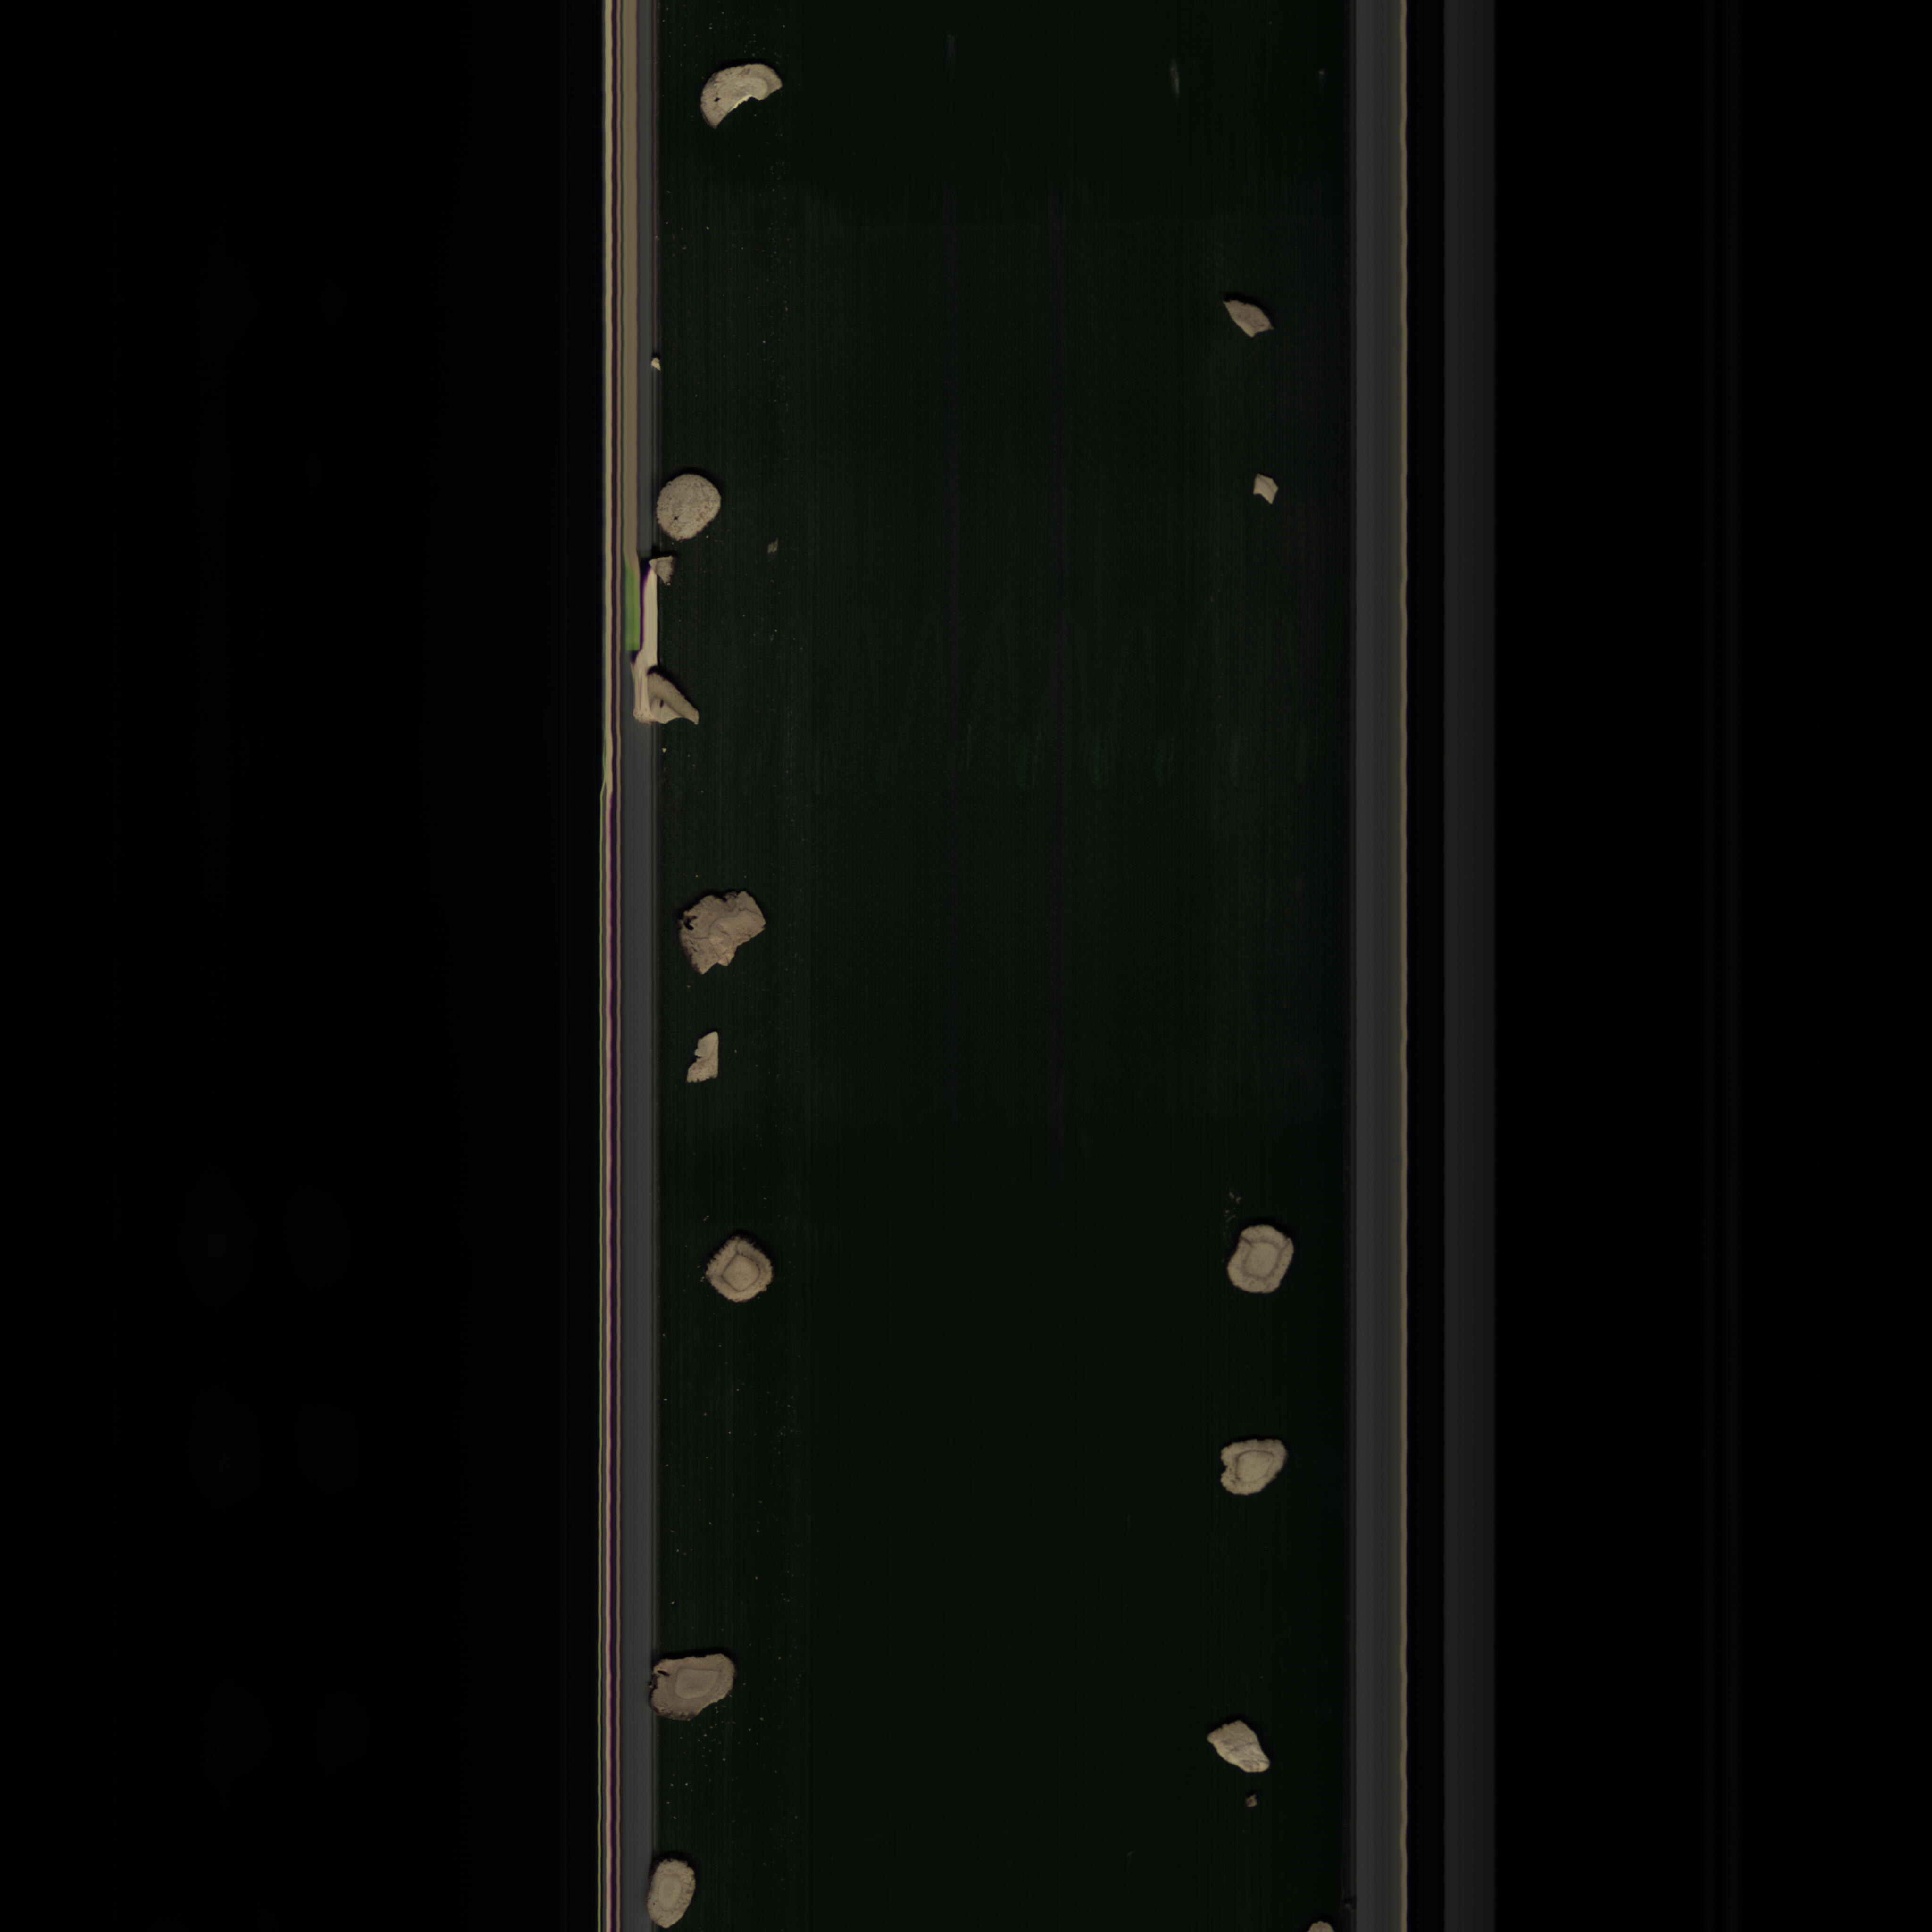debris: (669, 890, 791, 984), (695, 60, 787, 129), (1200, 1718, 1276, 1778), (1219, 297, 1279, 347), (685, 1026, 727, 1086), (1247, 471, 1290, 510)
distortion: (1215, 1435, 1295, 1500)
